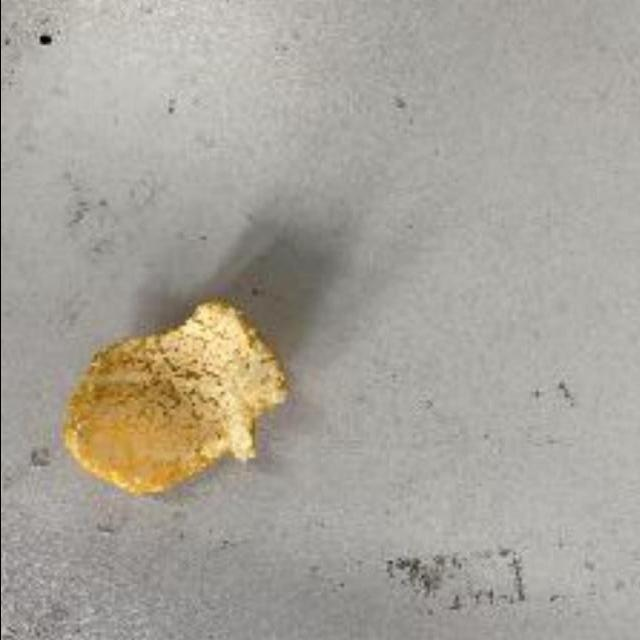orange peel: (62, 300, 288, 493)
